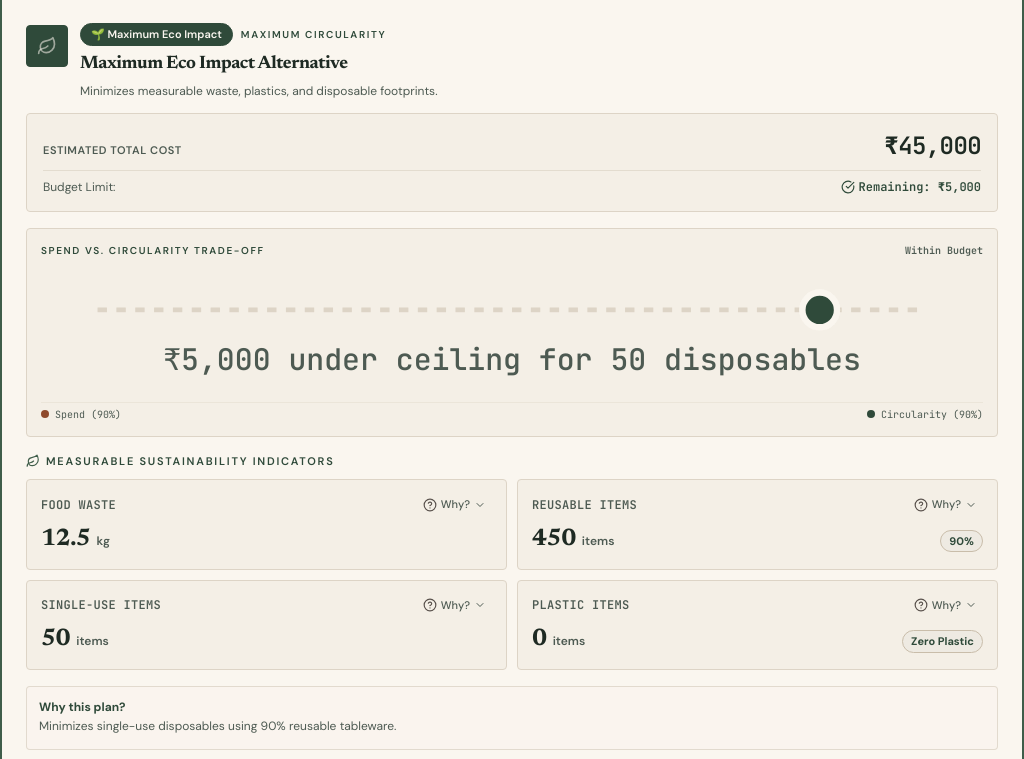
PlanCard & Sustainability Metrics Handling › displays plain-language explanations when clicking Why on metrics
What coordinates should you click on to do the following:
click the button with aria-label "Why this Food Waste estimate?"
I would click on:
 (454, 505)
Its box is [417,494,492,515].
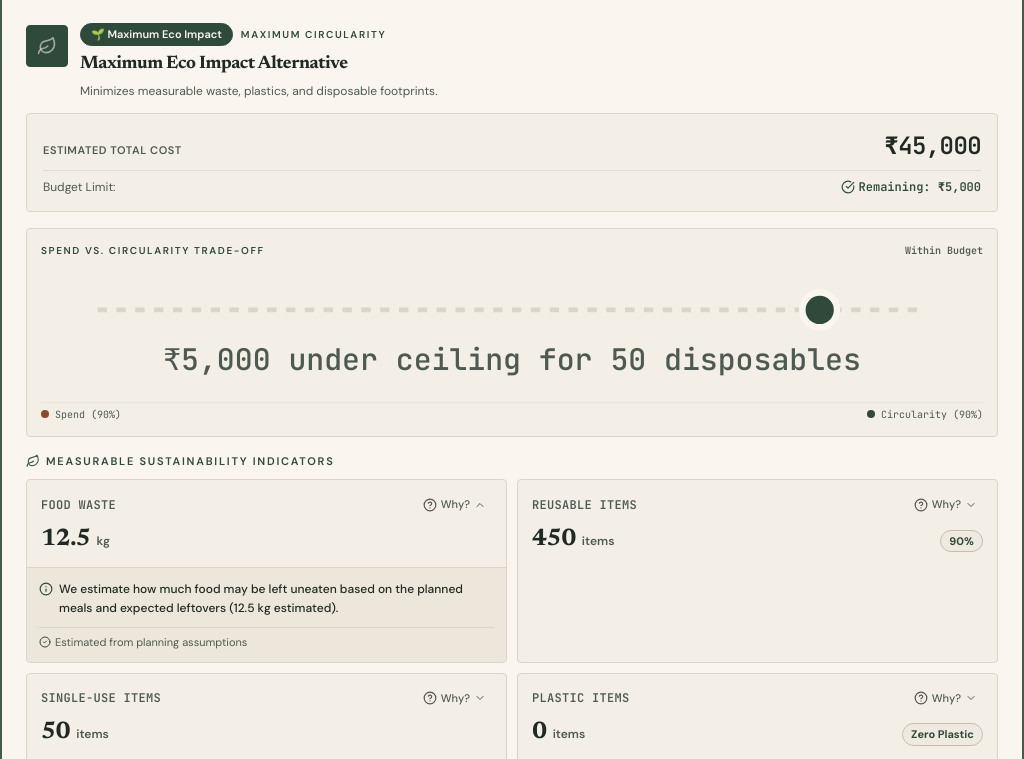
expect the text "We estimate how much food may be left uneaten based on the planned meals and expected leftovers" is shown: met, box [59,581,463,616]
What coordinates should you click on to do the following:
click the button with aria-label "Why this Reusable Items estimate?"
I would click on:
 (945, 505)
Its box is [908,494,983,515].
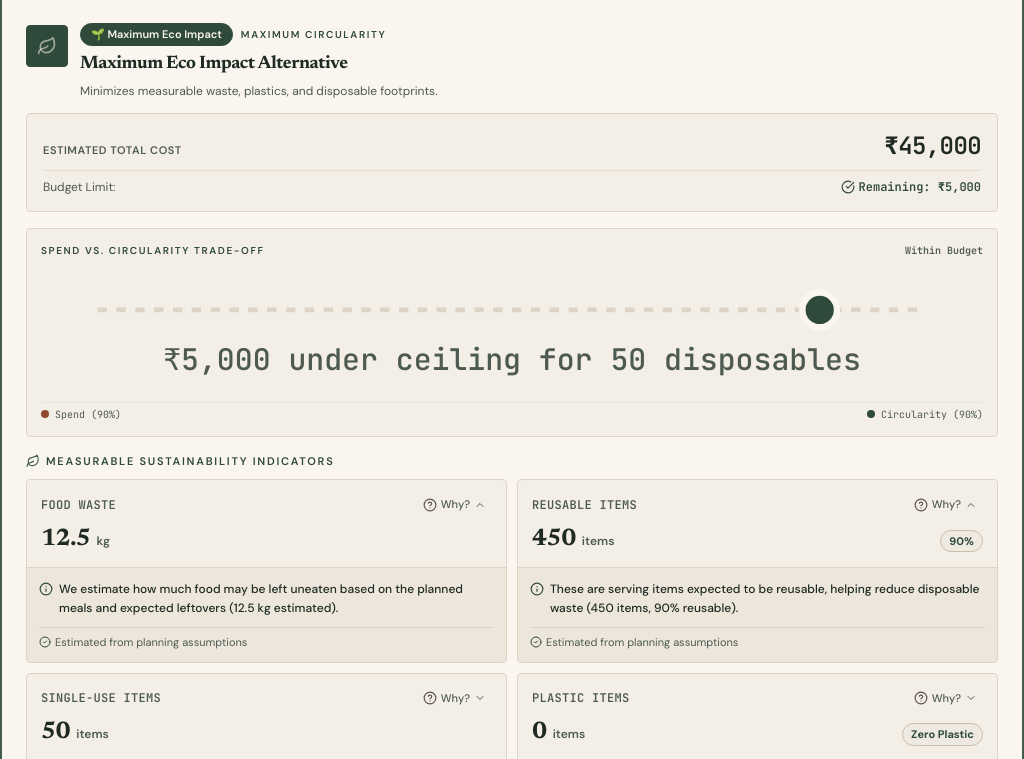
expect the text "These are serving items expected to be reusable, helping reduce disposable waste" is shown: met, box [550,581,980,616]
What coordinates should you click on to do the following:
click the button with aria-label "Why this Single-Use Items estimate?"
I would click on:
 (454, 698)
Its box is [417,688,492,708].
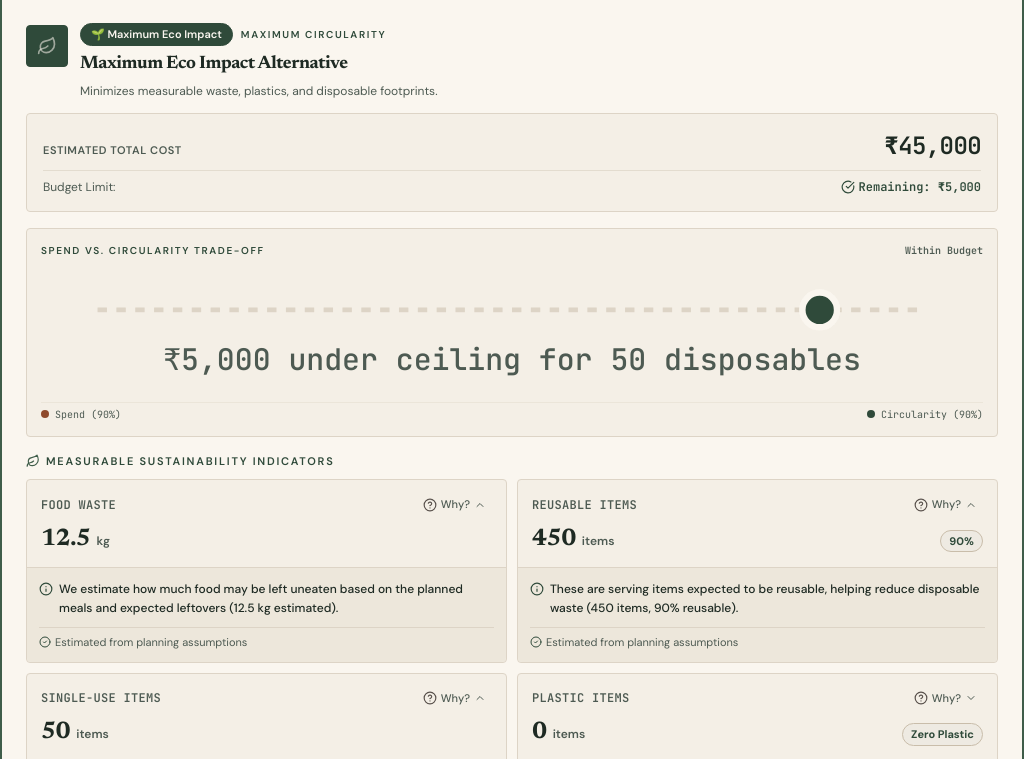
What coordinates should you click on to do the following:
click the button with aria-label "Why this Plastic Items estimate?"
I would click on:
 (945, 698)
Its box is [908,688,983,708].
(page scrolled)
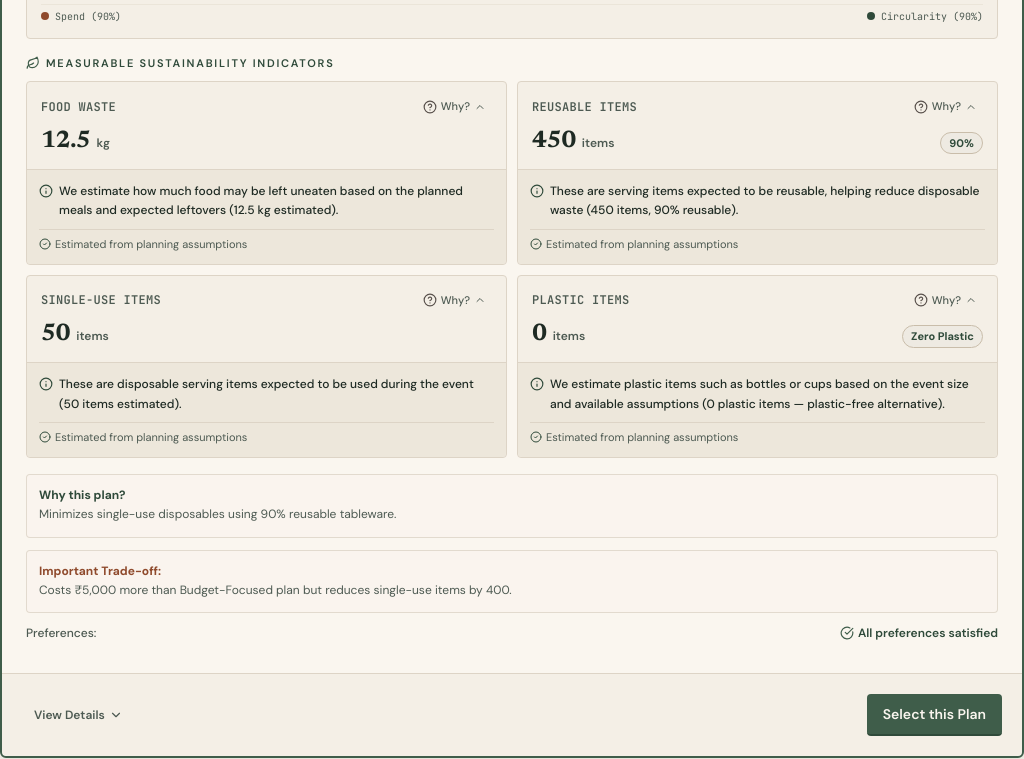
expect the text "We estimate plastic items such as bottles or cups based on the event size and available assumptions" is shown: met, box [550,376,969,412]
